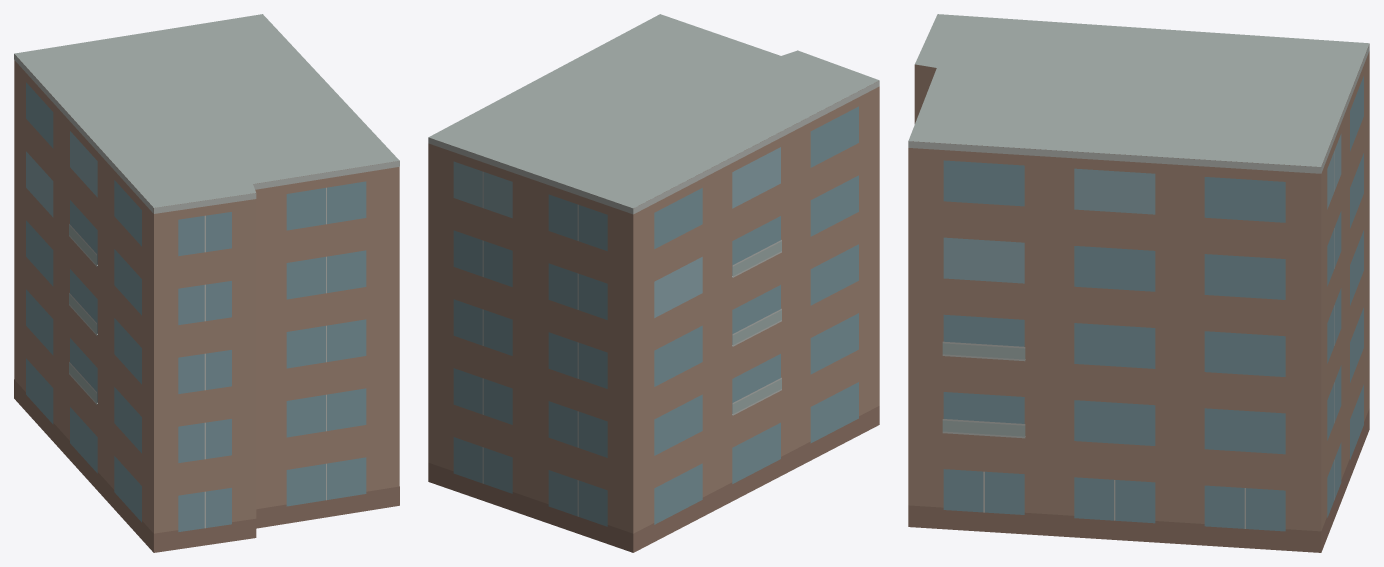
Rendered from survey-upis-32743874.glb.
The picture shows the model from 3 angles, left to right: view 1: azimuth 30°, elevation 25°; view 2: azimuth 150°, elevation 25°; view 3: azimuth 270°, elevation 25°; orthographic projection. The views are drawn at different scales.
Parts seen in each view (by area): view 1: survey-upis-32743874.tmp; view 2: survey-upis-32743874.tmp; view 3: survey-upis-32743874.tmp.
Boxes of the visible parts, bbox=[...] form: survey-upis-32743874.tmp: bbox=[14, 14, 399, 552]; survey-upis-32743874.tmp: bbox=[428, 14, 879, 552]; survey-upis-32743874.tmp: bbox=[908, 14, 1369, 552].
Size of the model in its own units: 11.84 by 13.9 by 15.07.
